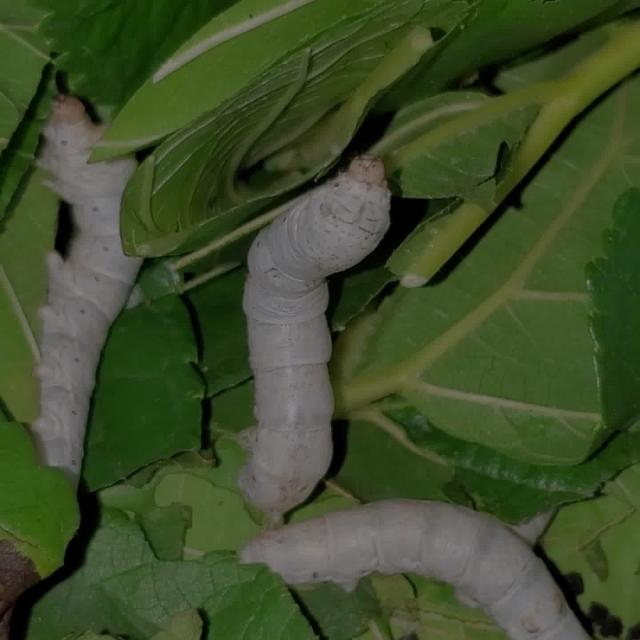Healthy: (208, 129, 610, 636), (14, 69, 162, 498)
